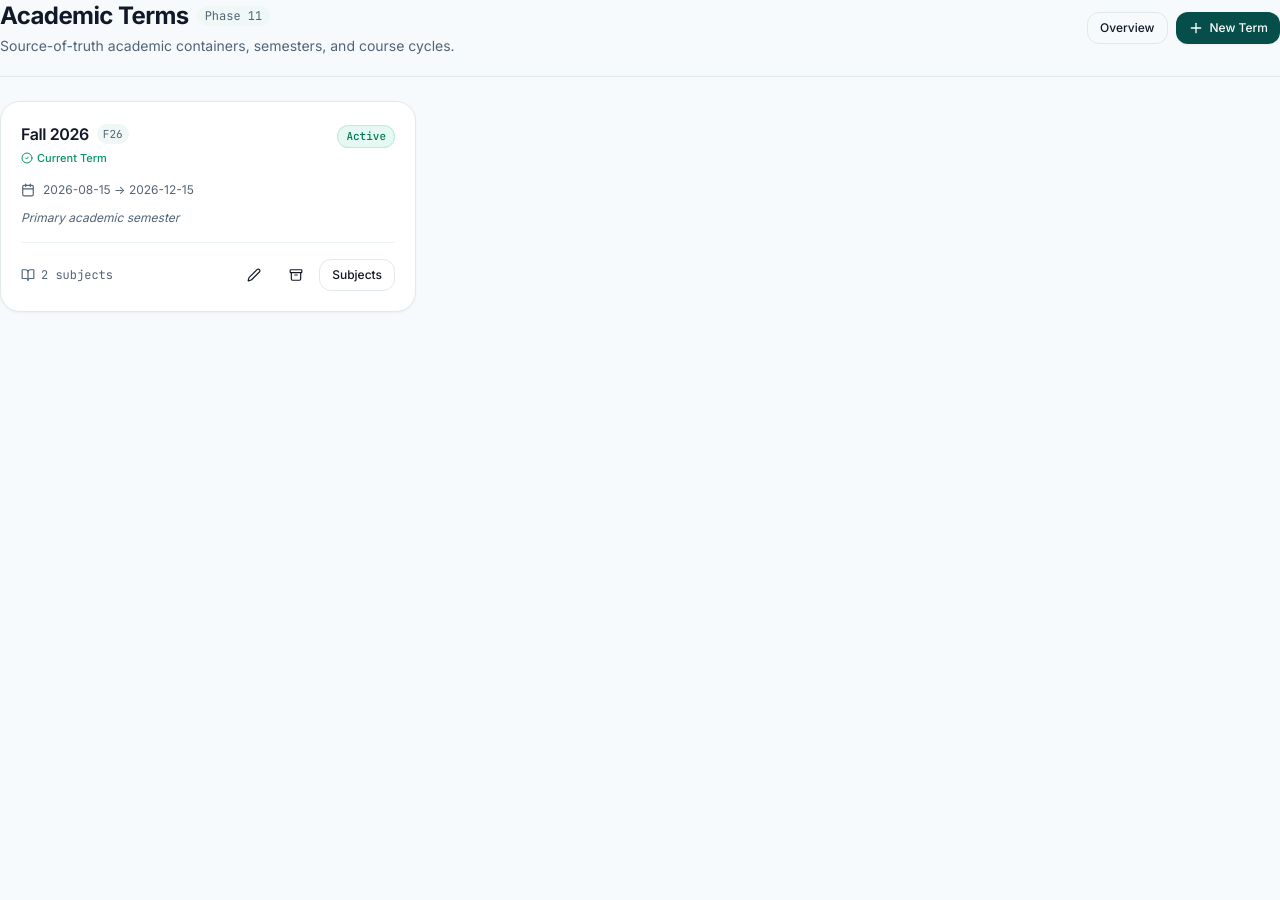
Academics Frontend Pages › TermsPage renders terms list and opens Create Term modal
Expected: the heading "Academic Terms" is shown, [0,0,189,32]
Expected: the heading "Fall 2026" is shown, [21,122,89,146]
# Click "New Term" button
Click the button "New Term": [1228, 28] box [1176,12,1279,44]
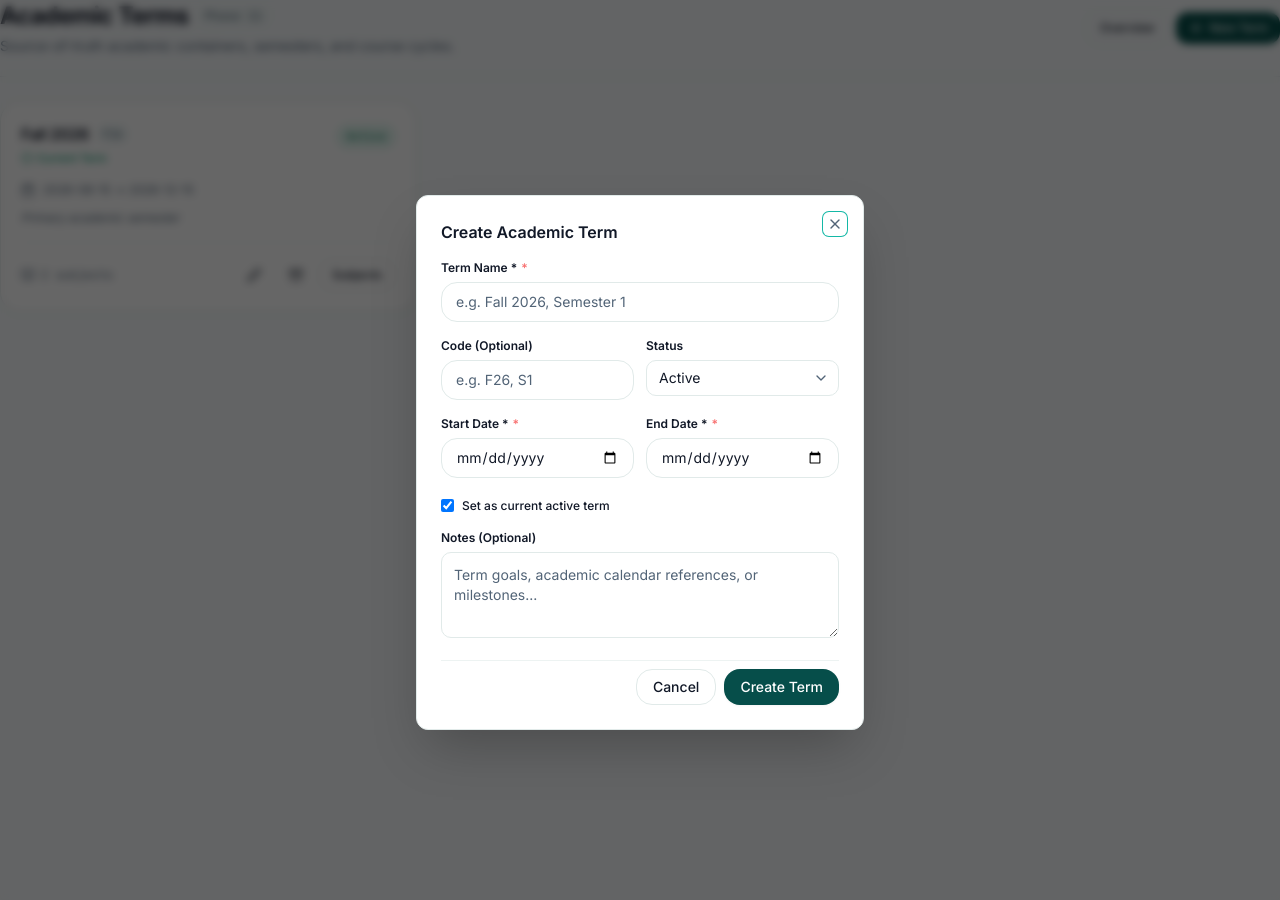
Expected: the heading "Create Academic Term" is shown, [441,222,618,242]
